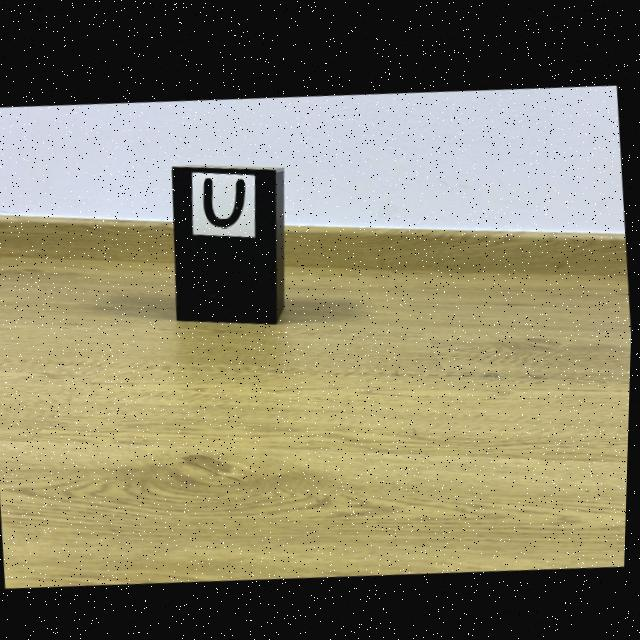U: (204, 176, 246, 225)
